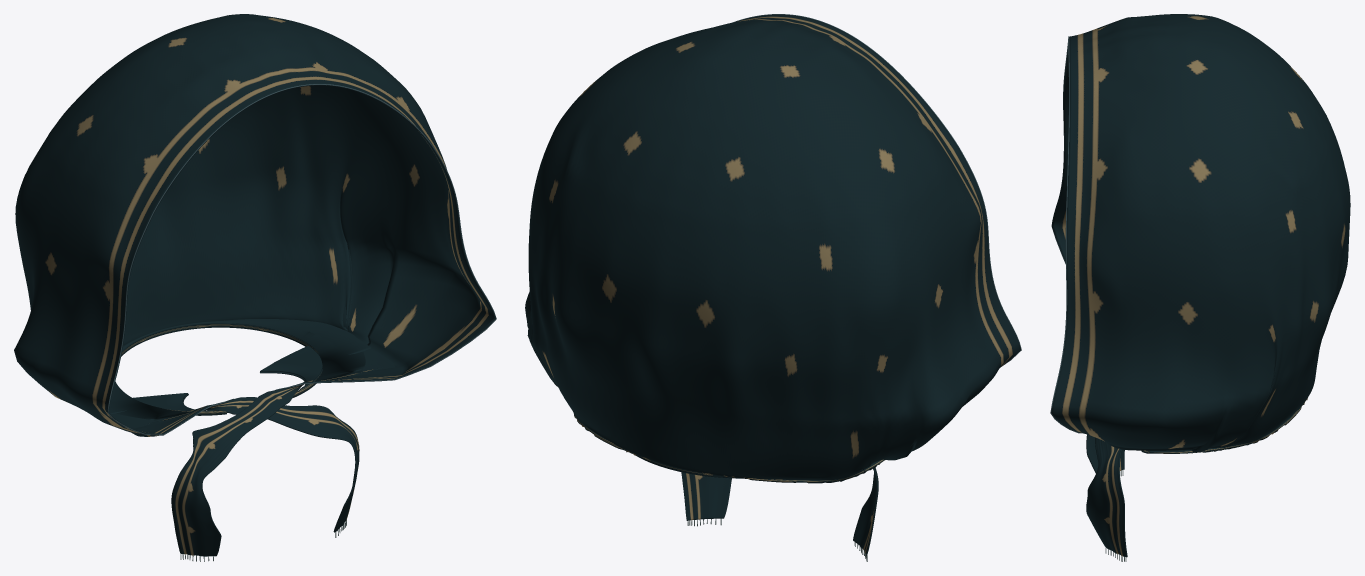
File: Feminine-side-sweep-strappy-pashmina249-headgear.glb
3 views of the same model, side by side, from view 1: azimuth 30°, elevation 25°; view 2: azimuth 150°, elevation 25°; view 3: azimuth 270°, elevation 25° (orthographic). The views are drawn at different scales.
Parts seen in each view (by area): view 1: 226 headgear / Headwear / continuous woven pashmina239, 226 headgear / Headwear / face edge239; view 2: 226 headgear / Headwear / continuous woven pashmina239, 226 headgear / Headwear / face edge239; view 3: 226 headgear / Headwear / continuous woven pashmina239, 226 headgear / Headwear / face edge239.
Boxes of the visible parts, <box> form: 226 headgear / Headwear / continuous woven pashmina239: <box>14,14,495,556</box>; 226 headgear / Headwear / face edge239: <box>107,84,496,435</box>; 226 headgear / Headwear / continuous woven pashmina239: <box>525,14,1020,555</box>; 226 headgear / Headwear / face edge239: <box>732,14,1021,366</box>; 226 headgear / Headwear / continuous woven pashmina239: <box>1051,14,1350,557</box>; 226 headgear / Headwear / face edge239: <box>1050,36,1081,433</box>.
Size of the model in its own units: 1.23 by 1.41 by 0.7787.
Materials: 3 (1 with a texture image).
